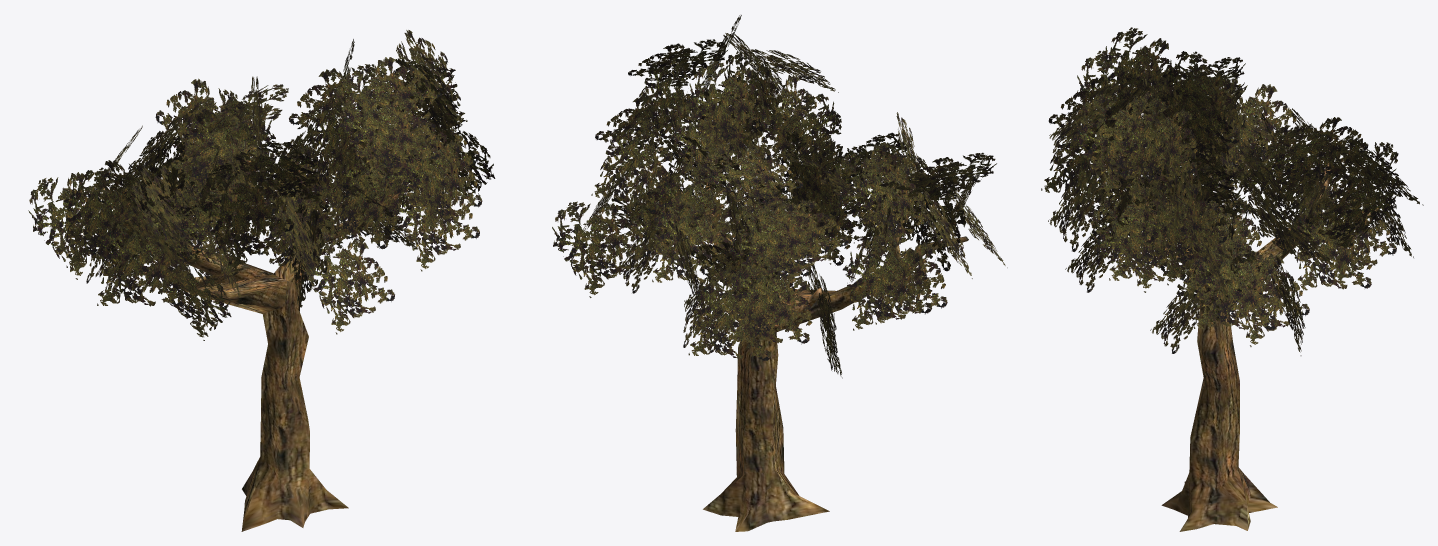
The model's file is Tree01.obj.
The picture shows the model from 3 angles, left to right: view 1: azimuth 30°, elevation 25°; view 2: azimuth 150°, elevation 25°; view 3: azimuth 270°, elevation 25°; orthographic projection. The views are drawn at different scales.
Parts seen in each view (by area): view 1: Mesh_1, Mesh_0; view 2: Mesh_1, Mesh_0; view 3: Mesh_1, Mesh_0.
Boxes of the visible parts, box(x1,y1,x2,y2) form: Mesh_1: box(28, 30, 495, 340); Mesh_0: box(102, 161, 420, 531); Mesh_1: box(552, 15, 1007, 378); Mesh_0: box(658, 165, 968, 531); Mesh_1: box(1041, 27, 1423, 355); Mesh_0: box(1103, 123, 1379, 531).
Bounding box in the file's own units: 7.52 × 8.25 × 6.08.
Materials: 2 (2 with a texture image).
